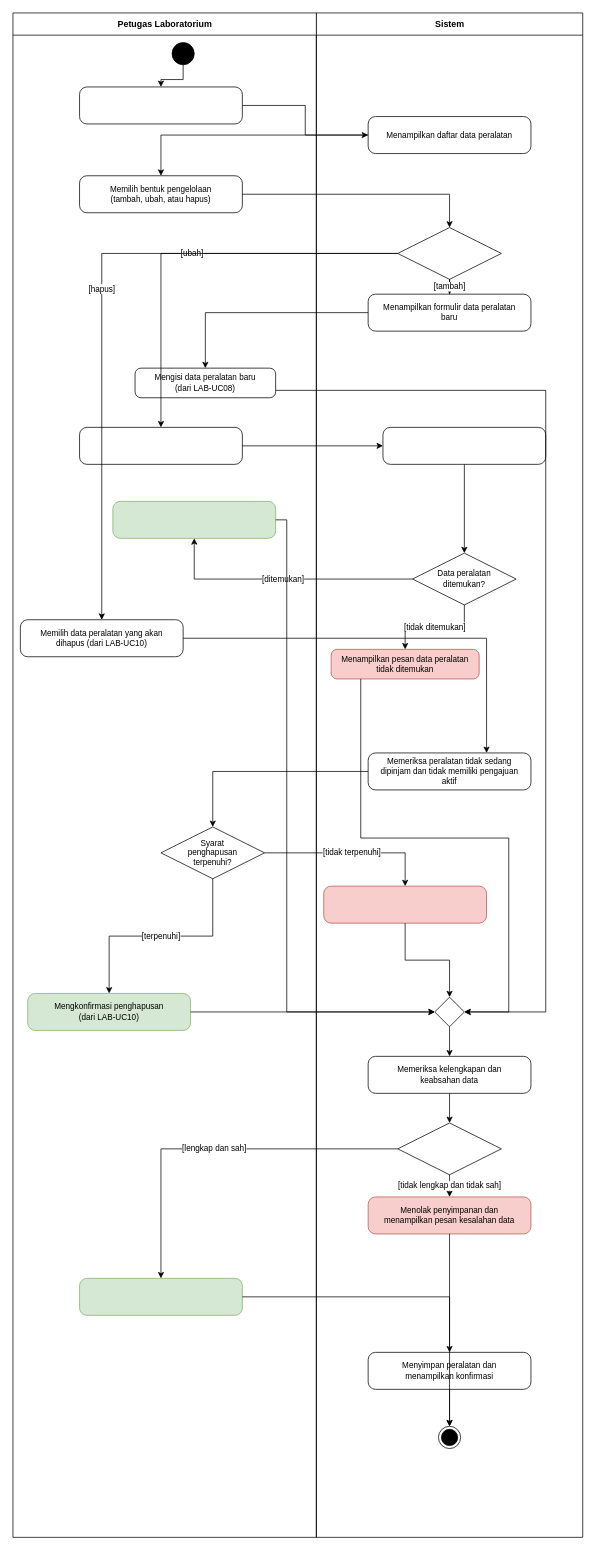
The diagram is 596 pixels wide and 1550 high, and some of its shapes have lost their labels. Each missing label, with the centre of its shape:
"Bentuk pengelolaan yang dipilih?" goes at (x=449, y=253).
"Data lengkap dan sah?" goes at (x=449, y=1148).
"Membuka fungsi Kelola Data Peralatan" goes at (x=160, y=105).
"Memilih data peralatan yang akan diubah (dari LAB-UC09)" goes at (x=160, y=445).
"Menampilkan data peralatan saat ini" goes at (x=464, y=445).
"Mengubah data peralatan (dari LAB-UC09)" goes at (x=194, y=519).
"Menolak penghapusan dan menampilkan pesan peralatan masih terpakai" goes at (x=405, y=904).
"Menyimpan perubahan" goes at (x=160, y=1296).
